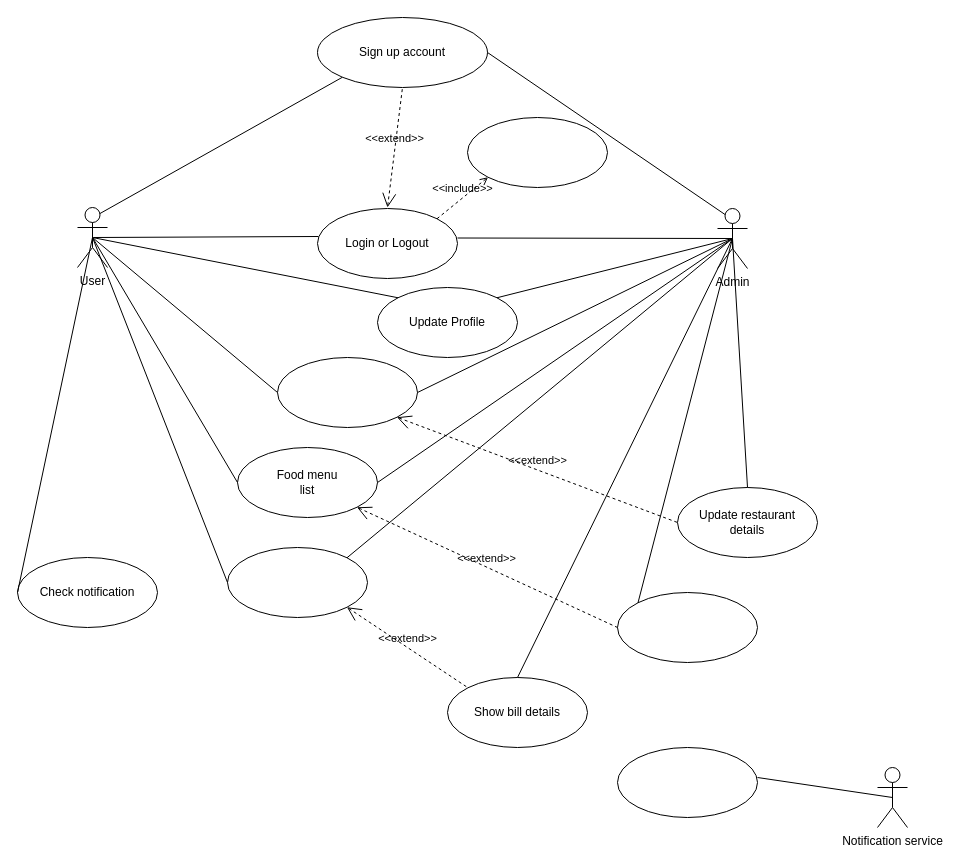
The diagram is 960 pixels wide and 866 high, and some of its shapes have lost their labels. The centre of each missing label's shape, as x and y in pixels:
Authenticate: point 537,152
find Restaurant: point 347,392
Select food online: point 297,582
Send Notification: point 687,782
Update food item: point 687,627
